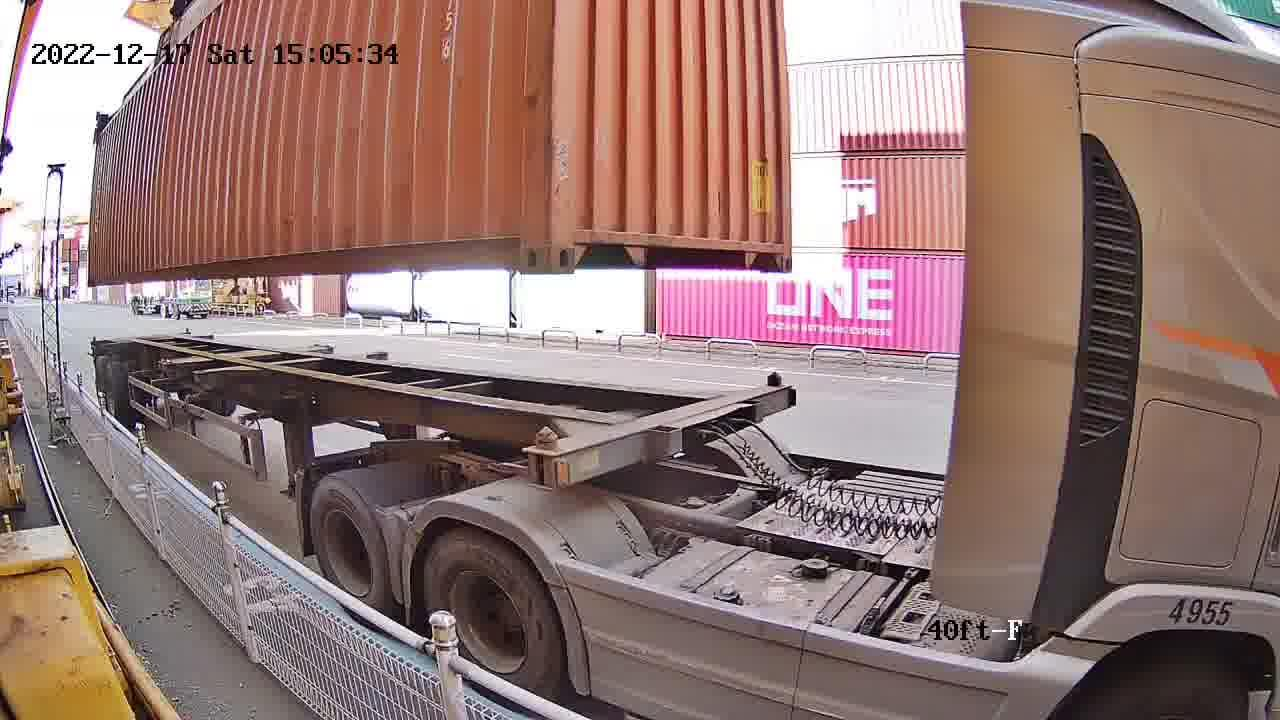Chassis: (555, 388, 794, 484)
Cone: (529, 427, 558, 489), (765, 371, 787, 406)
Hole_L: (553, 212, 605, 273)
Hole_R: (500, 212, 553, 275), (749, 219, 795, 270)
Tire: (423, 535, 558, 690), (308, 481, 387, 605)
